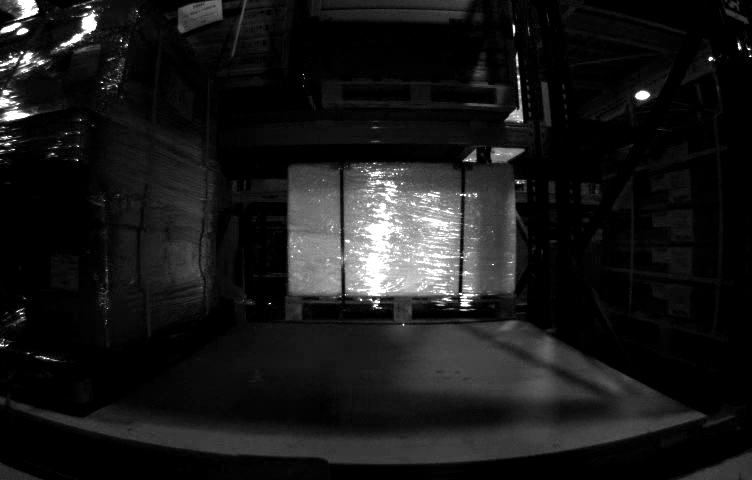True Barcode: (51, 255, 79, 290)
